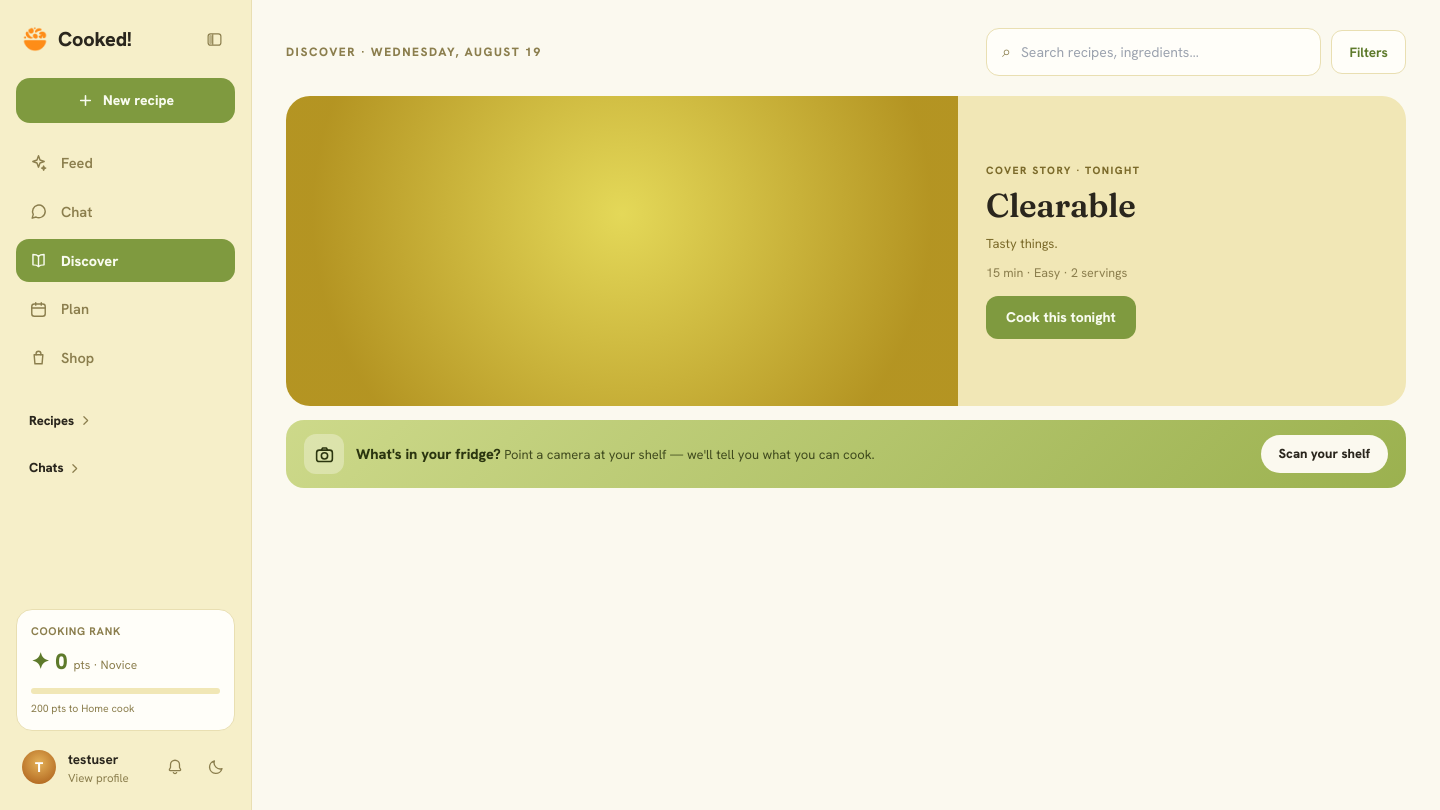
Scenario: BrowsePage search › returns to the front page when the term is emptied
The image size is (1440, 810).
expect the link with aria-label "Cover story: Clearable" is shown: met, box x1=286 y1=96 x2=1406 y2=406
Type "ramen" into the field labelled "Search recipes".
click(1163, 52); type("ramen")  # box x1=1021 y1=42 x2=1305 y2=62
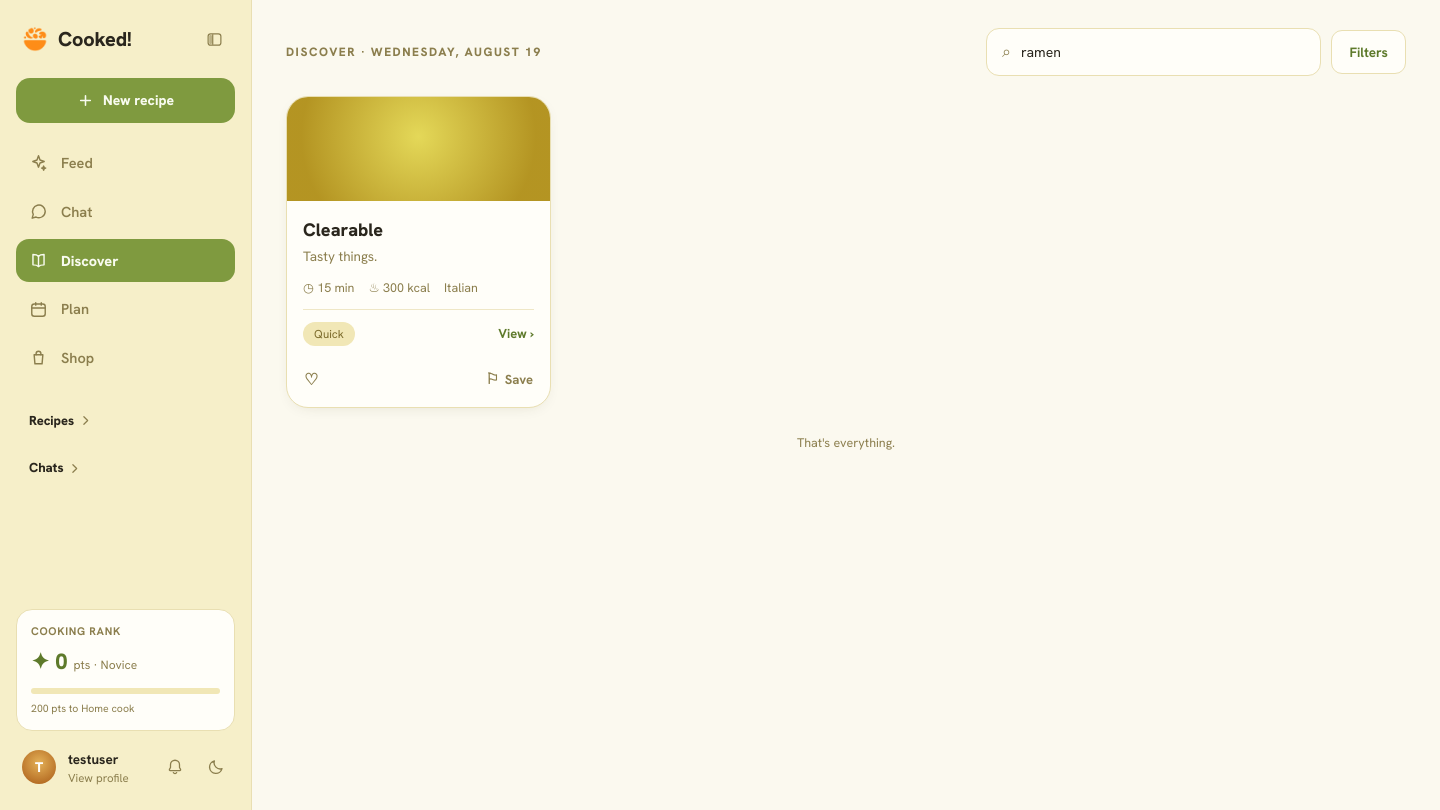
expect the link "COVER STORY" is gone: met
Clear the field named "Search recipes" at (1163, 52), box x1=1021 y1=42 x2=1305 y2=62
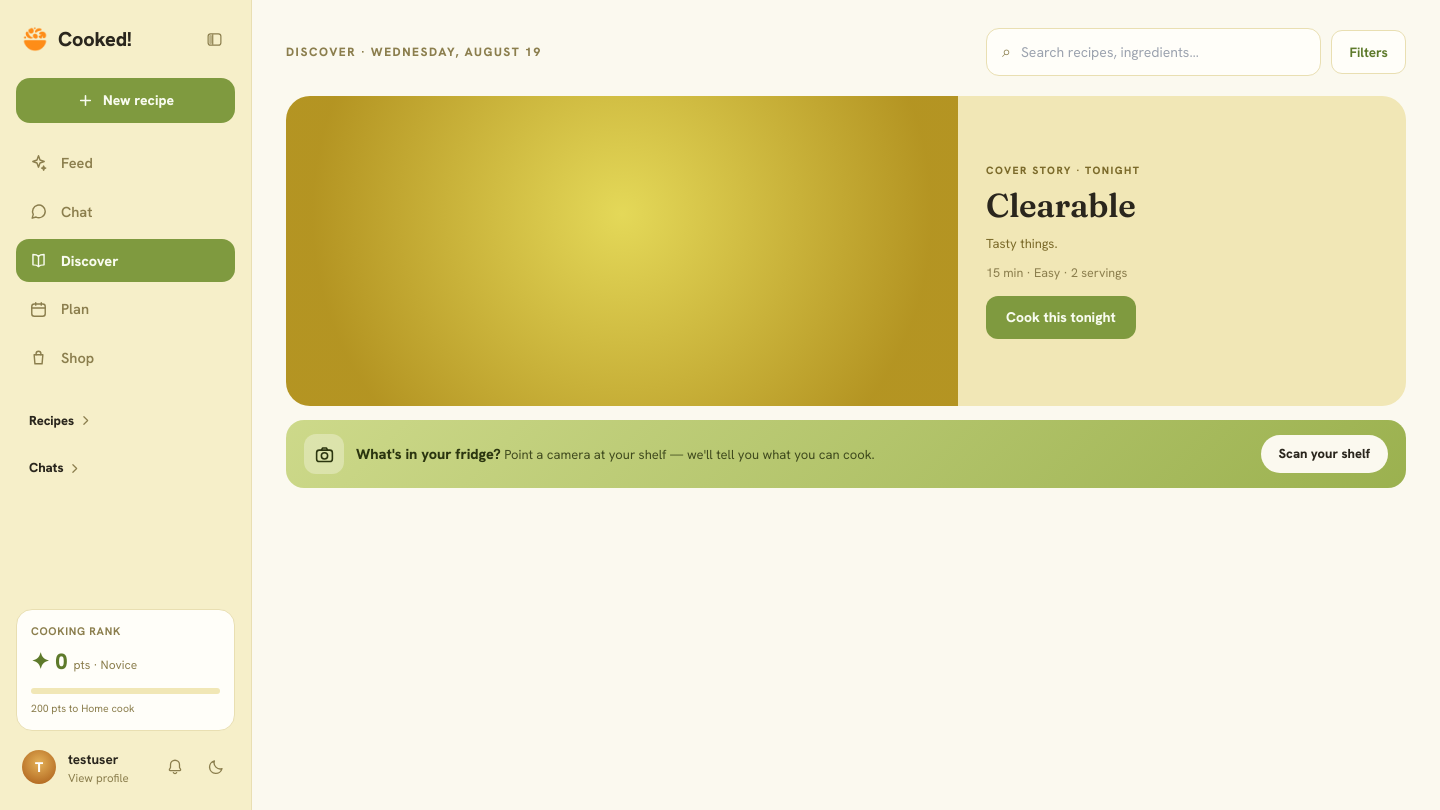
expect the link with aria-label "Cover story: Clearable" is shown: met, box x1=286 y1=96 x2=1406 y2=406
